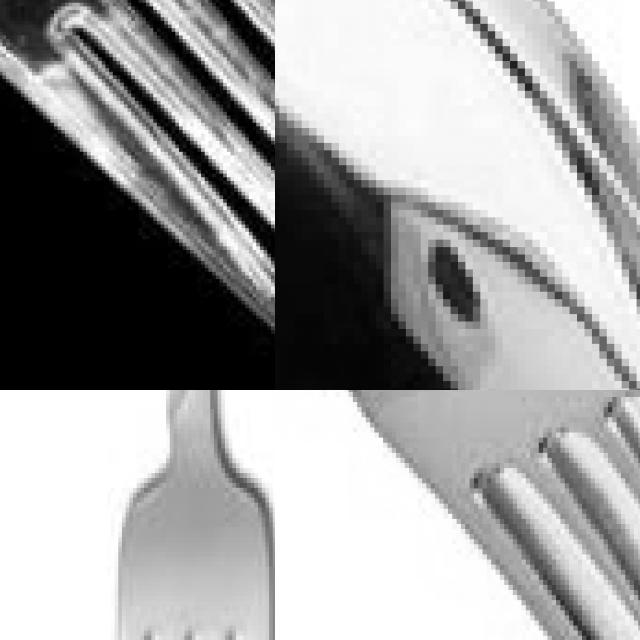forks: (0, 0, 275, 390), (314, 390, 640, 640)
spoons: (275, 0, 640, 390)
